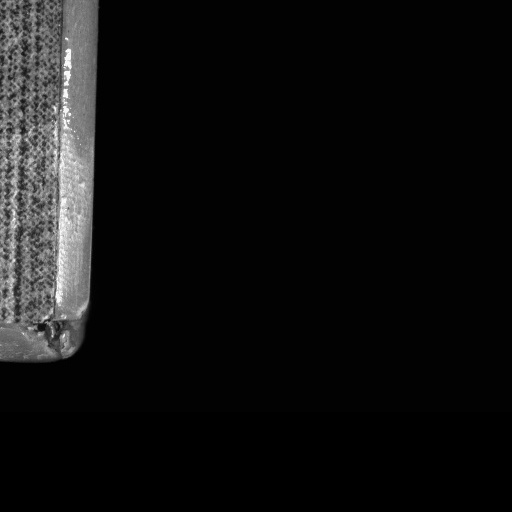bengque: (25, 317, 79, 359)
